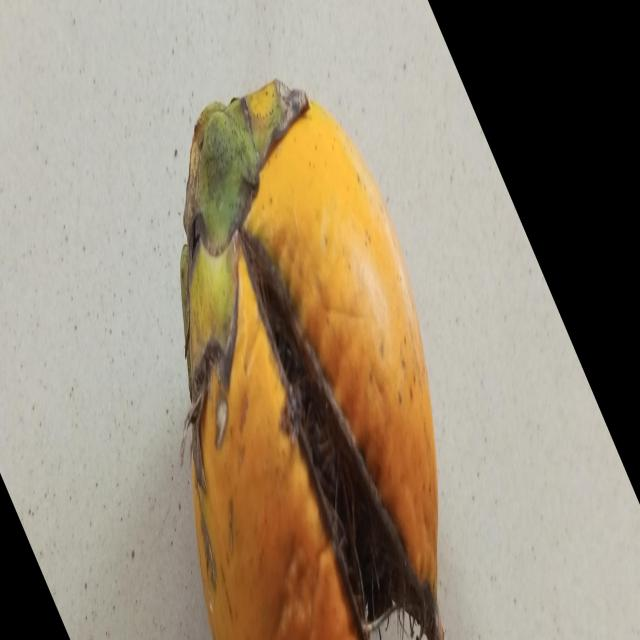damaged: (180, 81, 444, 640)
